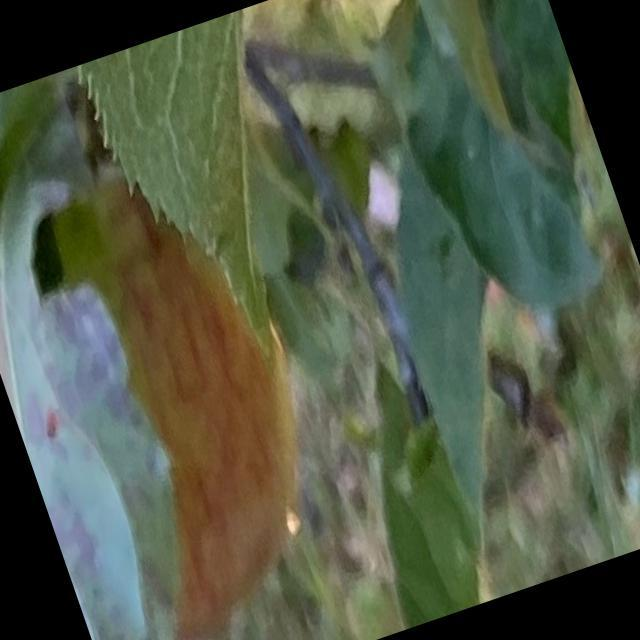100-_ripeness: (0, 138, 358, 639)
